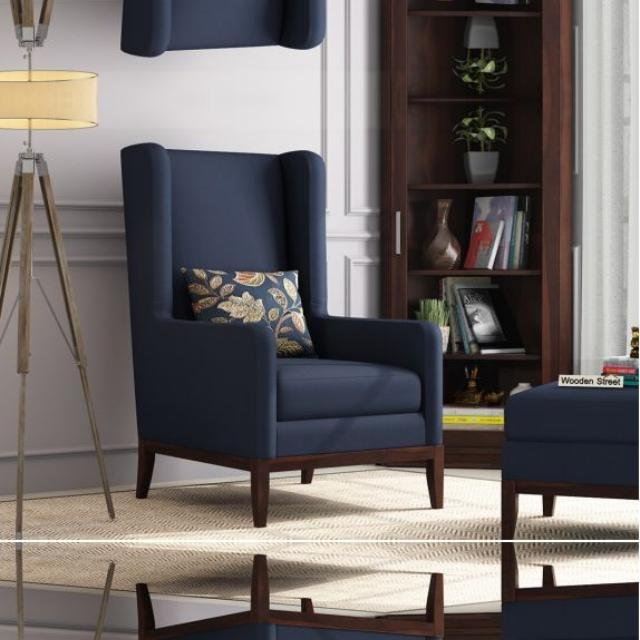obstacle: (113, 124, 455, 516), (113, 565, 455, 640), (113, 0, 455, 74)
